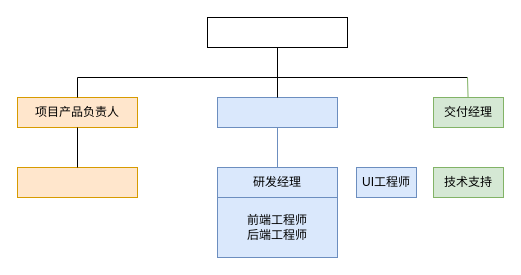
Some shapes in this 521 by 275 pixel diagram are drawn without their labels. The shapes that lost their labels are listed below. From the top down, each one's centre as x and y in pixels, then its label:
At pixel 277 32: "项目经理".
At pixel 277 112: "项目技术负责人".
At pixel 77 182: "产品经理".
